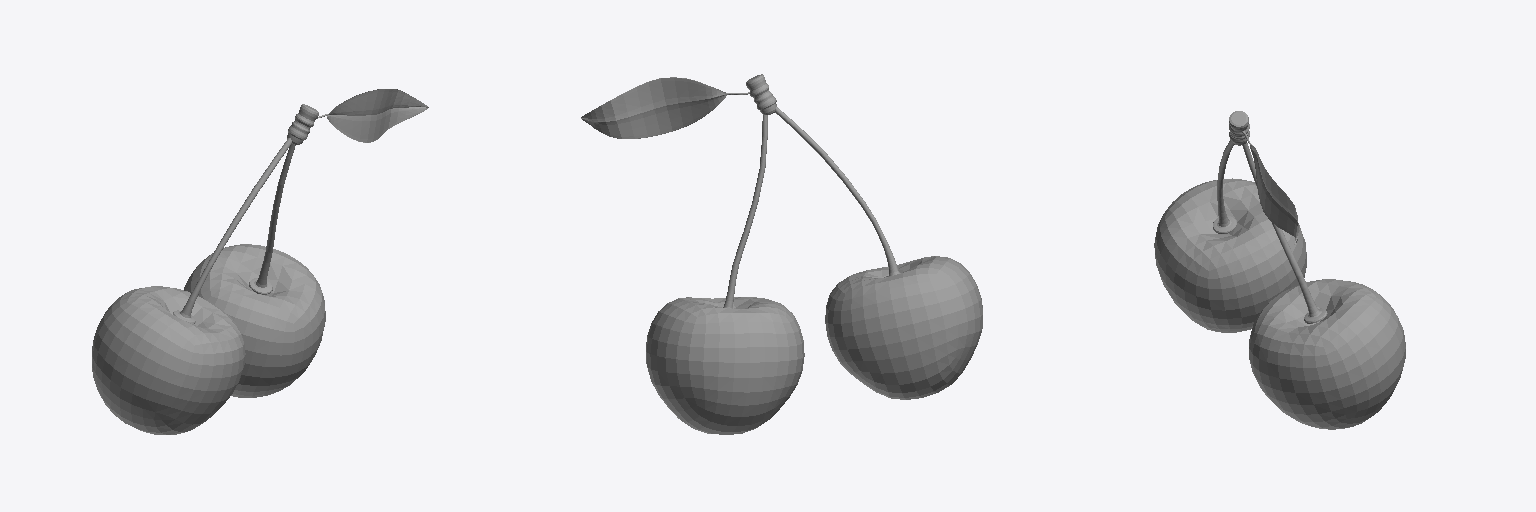
Rendered from cherry.obj.
The picture shows the model from 3 angles: view 1: azimuth 30°, elevation 25°; view 2: azimuth 150°, elevation 25°; view 3: azimuth 270°, elevation 25°; orthographic projection.
Visible parts, largest first — view 1: cherry_Cube.000; view 2: cherry_Cube.000; view 3: cherry_Cube.000.
Boxes of the visible parts, x1,y1,x2,y2 form: cherry_Cube.000: [92, 89, 428, 434]; cherry_Cube.000: [581, 74, 982, 434]; cherry_Cube.000: [1154, 111, 1405, 429].
Bounding box in the file's own units: 2.11 × 1.77 × 1.27.